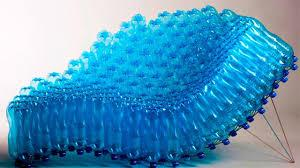Unknown plastic: (8, 11, 288, 165)
